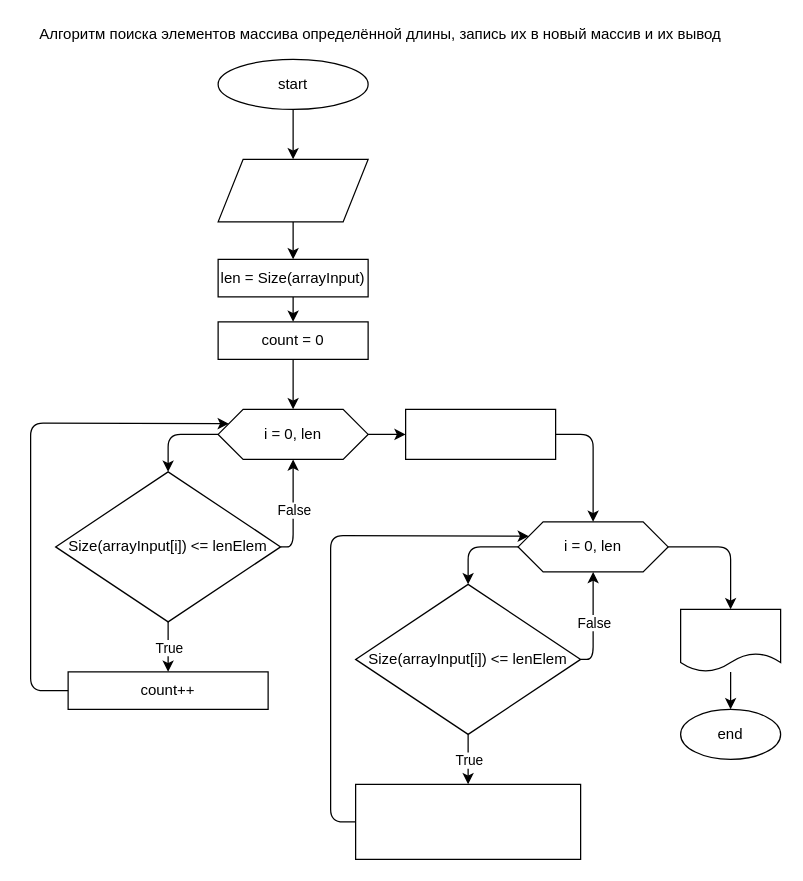
This 803x881 diagram has some shape labels left out. Each missing label, with the centre of its shape:
"lenElem arrayInput" goes at (x=292, y=190).
"resultArray" goes at (x=730, y=640).
"resultArray = [ ] count = 0" goes at (x=480, y=433).
"resultArray[count] = arrayInput[i] count++" goes at (x=467, y=821).
